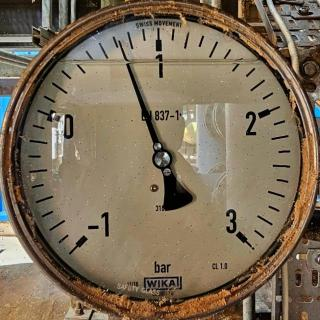gauge: (0, 0, 320, 320), (65, 212, 107, 260), (222, 217, 255, 251), (152, 148, 172, 169), (115, 36, 125, 49)
